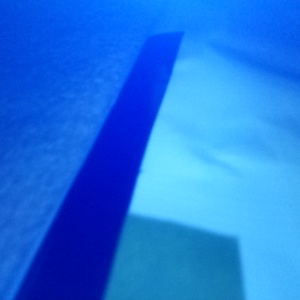top_right: (57, 214, 243, 300)
